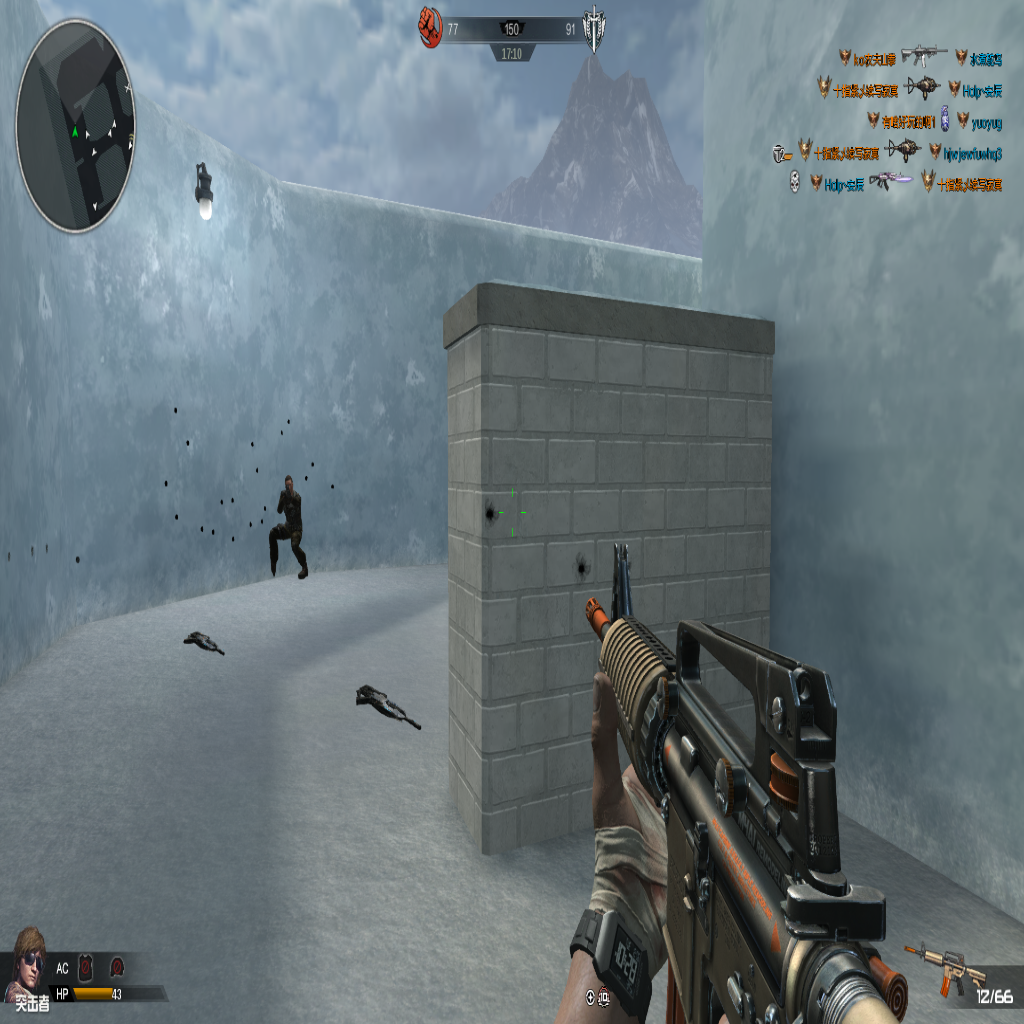ct: (267, 472, 306, 579)
